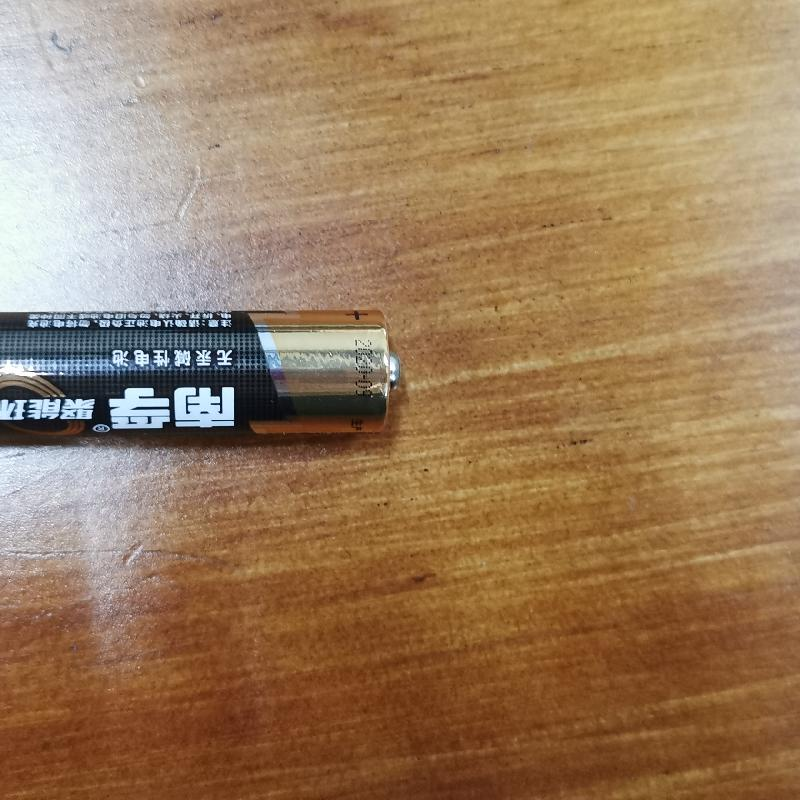battery: (4, 300, 405, 439)
